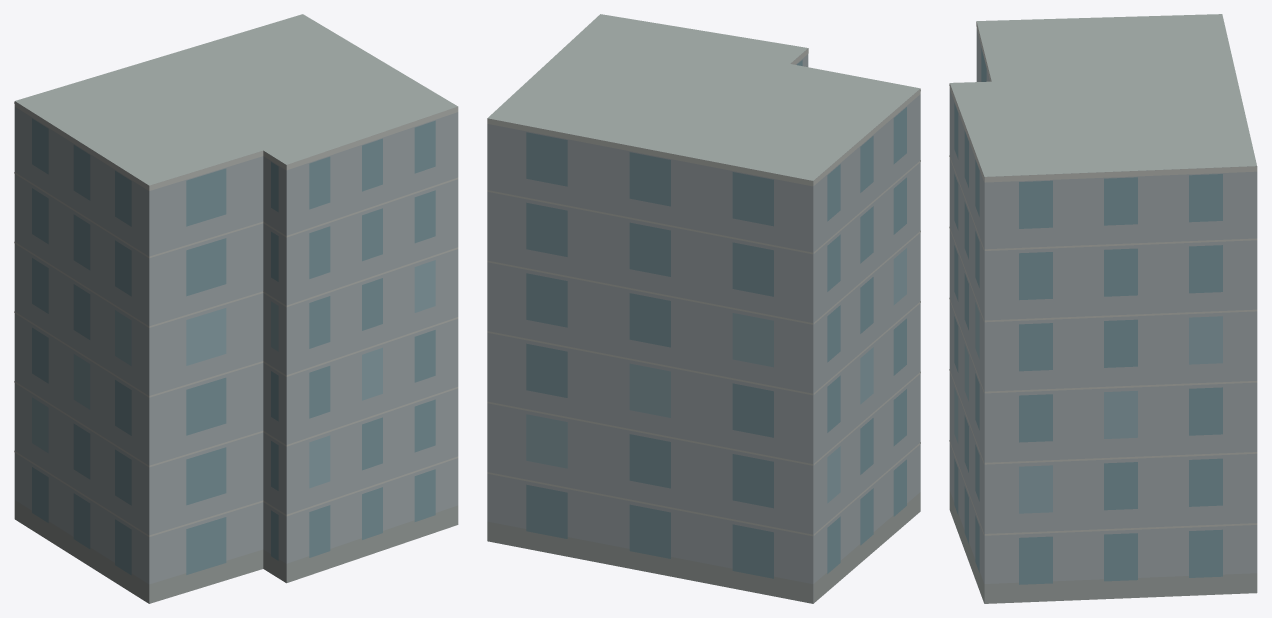
The model's file is survey-upis-32767317.glb.
3 renders of one model, left to right at view 1: azimuth 30°, elevation 25°; view 2: azimuth 150°, elevation 25°; view 3: azimuth 270°, elevation 25°, orthographic. The views are drawn at different scales.
Parts seen in each view (by area): view 1: survey-upis-32767317.tmp; view 2: survey-upis-32767317.tmp; view 3: survey-upis-32767317.tmp.
Part boxes in pixels (x1,y1,x2,y2): survey-upis-32767317.tmp: (14, 14, 458, 603); survey-upis-32767317.tmp: (487, 14, 920, 603); survey-upis-32767317.tmp: (949, 14, 1257, 603).
Bounding box in the file's own units: 15.16 × 18.5 × 12.1.
